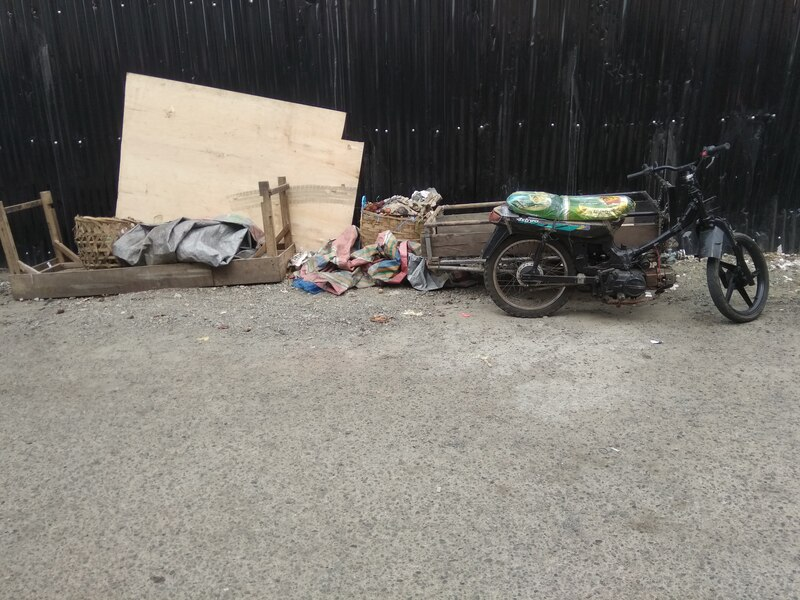becak barang: (408, 140, 776, 330)
